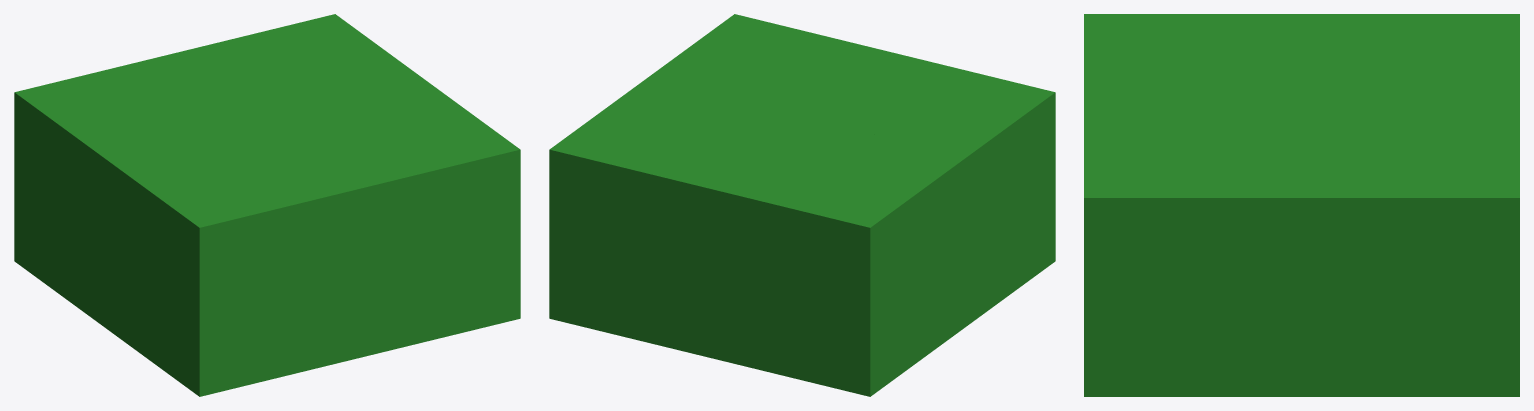
The picture shows the model from 3 angles, left to right: view 1: azimuth 30°, elevation 25°; view 2: azimuth 150°, elevation 25°; view 3: azimuth 270°, elevation 25°; orthographic projection. The views are drawn at different scales.
Visible parts, largest first — view 1: X10_sh_13, X10_sh_12, X10_sh_8, X10_sh_4, X10_sh_5, X10_sh_3, X10_sh_14, X10_sh_19, X10_sh_15, X10_sh_17, X10_sh_2, X10_sh_1 (+2 smaller); view 2: X10_sh_1, X10_sh_15, X10_sh_3, X10_sh_8, X10_sh_14, X10_sh_19, X10_sh_20, X10_sh_4, X10_sh_17, X10_sh_2, X10_sh_18, X10_sh_16 (+3 smaller); view 3: X10_sh_19, X10_sh_17, X10_sh_13, X10_sh_10, X10_sh_8, X10_sh_3, X10_sh_7, X10_sh_1, X10_sh_14, X10_sh_4, X10_sh_15.
Boxes of the visible parts, x1=… form: X10_sh_13: x1=344, y1=159, x2=520, y2=343; X10_sh_12: x1=254, y1=200, x2=415, y2=383; X10_sh_8: x1=126, y1=130, x2=352, y2=219; X10_sh_4: x1=138, y1=198, x2=315, y2=323; X10_sh_5: x1=154, y1=216, x2=328, y2=396; X10_sh_3: x1=84, y1=53, x2=323, y2=132; X10_sh_14: x1=44, y1=96, x2=228, y2=233; X10_sh_19: x1=319, y1=85, x2=520, y2=168; X10_sh_15: x1=14, y1=75, x2=85, y2=253; X10_sh_17: x1=290, y1=33, x2=432, y2=117; X10_sh_2: x1=90, y1=211, x2=164, y2=370; X10_sh_1: x1=173, y1=14, x2=360, y2=78; X10_sh_1: x1=549, y1=131, x2=723, y2=345; X10_sh_15: x1=765, y1=200, x2=929, y2=389; X10_sh_3: x1=704, y1=96, x2=843, y2=282; X10_sh_8: x1=808, y1=55, x2=1014, y2=180; X10_sh_14: x1=840, y1=130, x2=983, y2=266; X10_sh_19: x1=647, y1=14, x2=842, y2=101; X10_sh_20: x1=659, y1=277, x2=777, y2=374; X10_sh_4: x1=962, y1=69, x2=1055, y2=222; X10_sh_17: x1=575, y1=78, x2=768, y2=133; X10_sh_2: x1=946, y1=172, x2=1020, y2=318; X10_sh_18: x1=778, y1=305, x2=927, y2=396; X10_sh_16: x1=924, y1=259, x2=976, y2=354; X10_sh_19: x1=1084, y1=116, x2=1289, y2=313; X10_sh_17: x1=1255, y1=132, x2=1459, y2=296; X10_sh_13: x1=1084, y1=101, x2=1216, y2=396; X10_sh_10: x1=1347, y1=263, x2=1519, y2=396; X10_sh_8: x1=1084, y1=14, x2=1302, y2=119; X10_sh_3: x1=1244, y1=42, x2=1519, y2=140; X10_sh_7: x1=1207, y1=282, x2=1385, y2=396; X10_sh_1: x1=1392, y1=104, x2=1519, y2=315; X10_sh_14: x1=1256, y1=14, x2=1468, y2=83; X10_sh_4: x1=1084, y1=14, x2=1178, y2=67; X10_sh_15: x1=1449, y1=14, x2=1519, y2=54.
Bounding box in the file's own units: 200 × 101 × 200.
